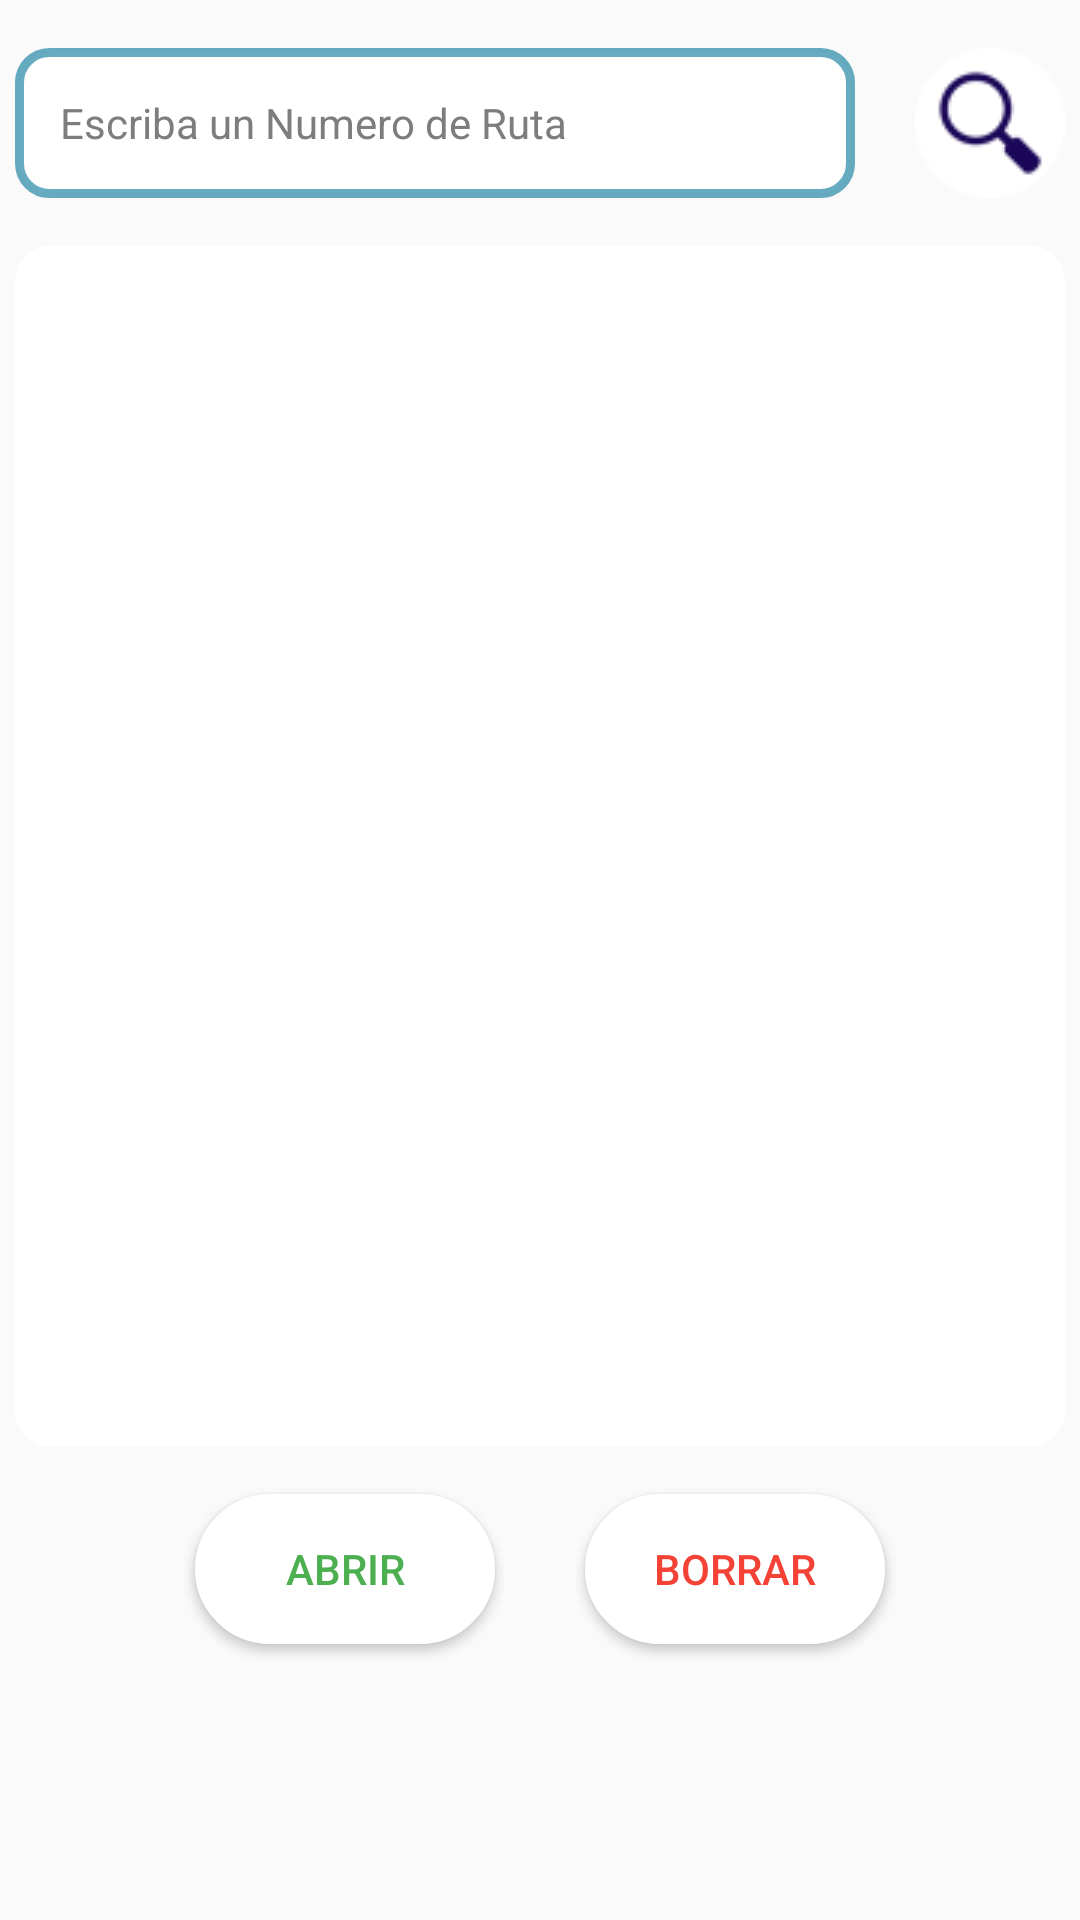

Named icons in this screenshot (1080w x 1920h) and their centers, (x=x, y=y):
lupita: (x=990, y=123)
